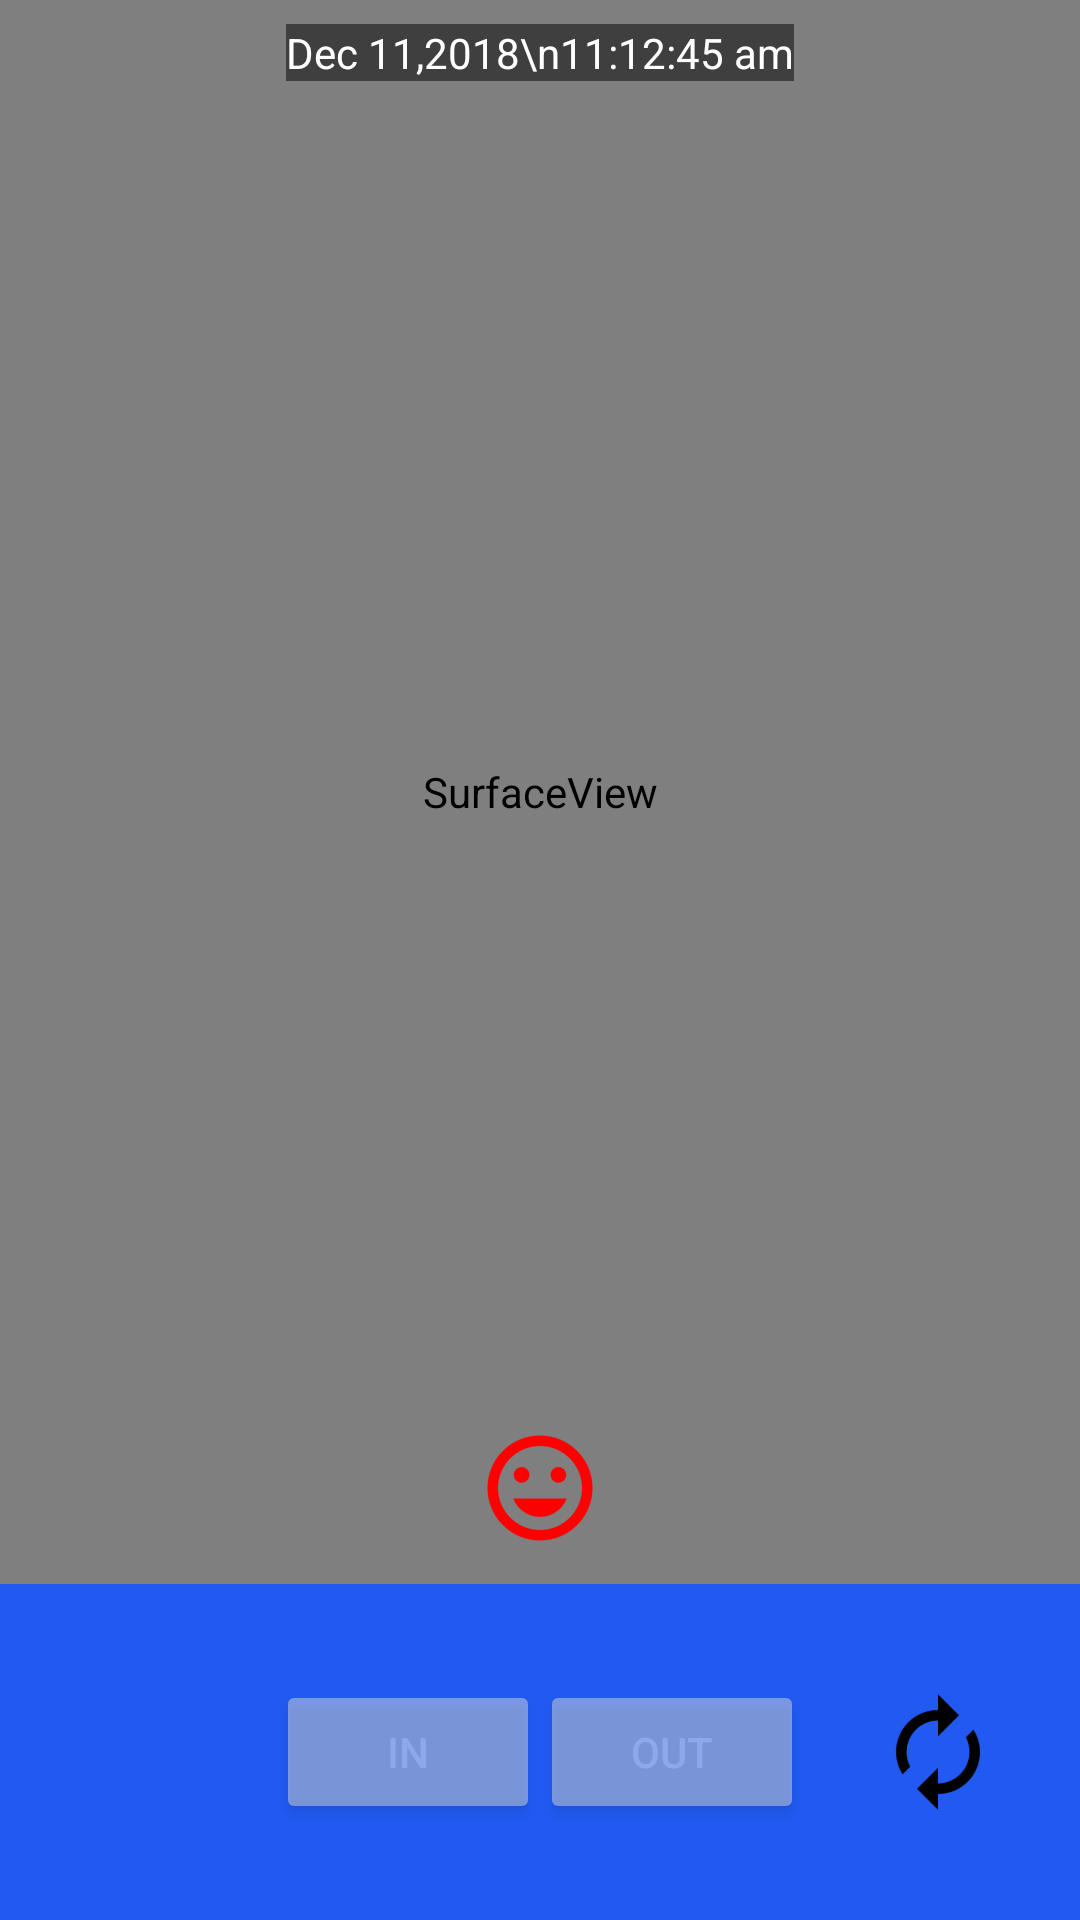

Icons on this 1080px×1920px Android screen, each with its box as BBox(x1, y1, x2, y2):
retake pic: BBox(896, 1694, 980, 1810)
